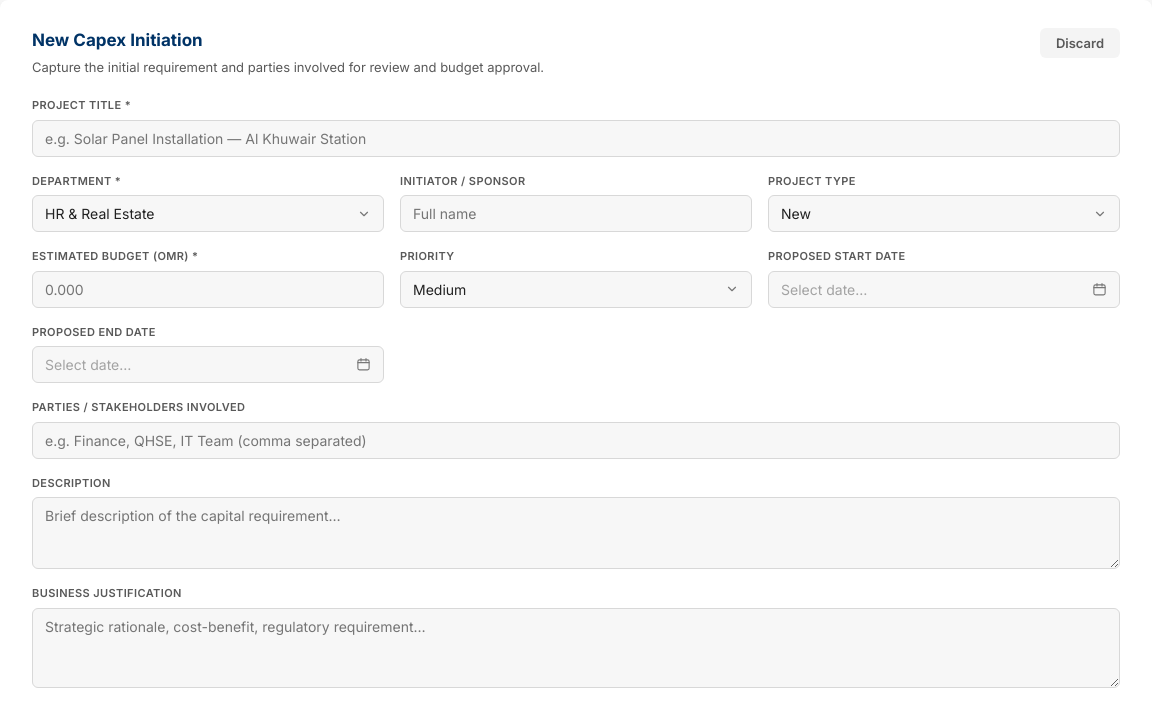
Test: CapexInitiationForm — rendering › renders priority selector with High, Medium, Low
The width and height of the screenshot is (1152, 704).
Click the dropdown named "Priority".
click(440, 289)  # box [400, 270, 752, 308]
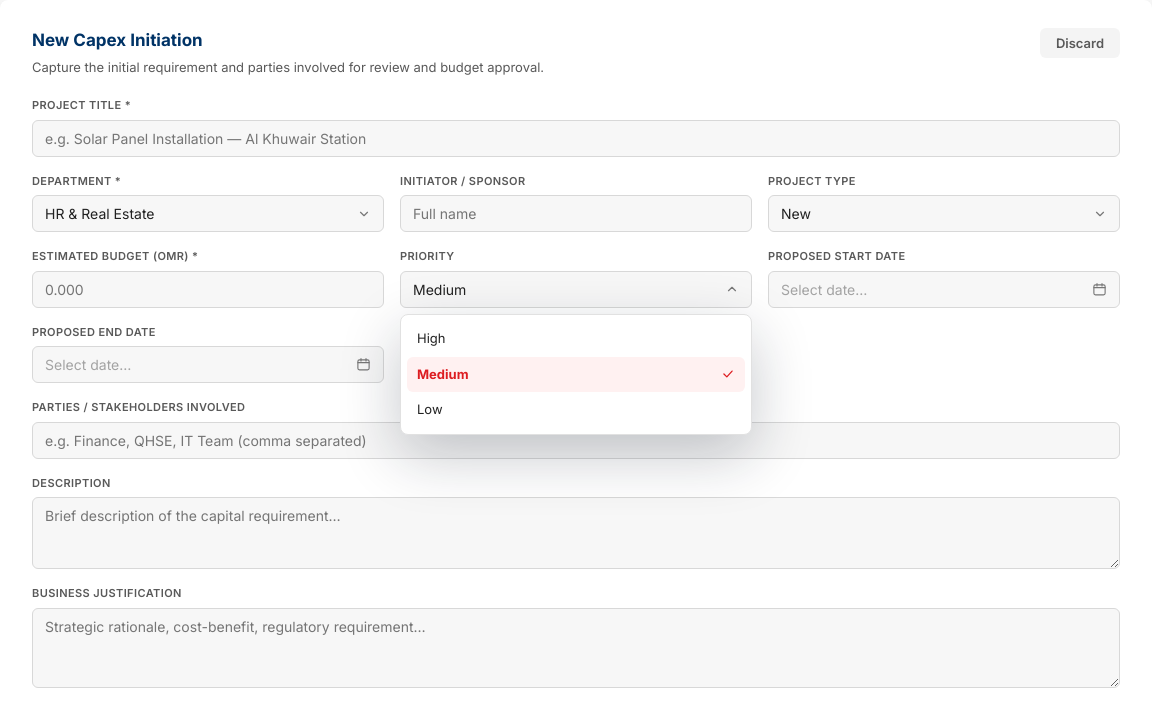
Check: the options read "High", "Medium", "Low", in this order, box [417, 330, 446, 346]; [407, 356, 745, 392]; [417, 401, 443, 417]
